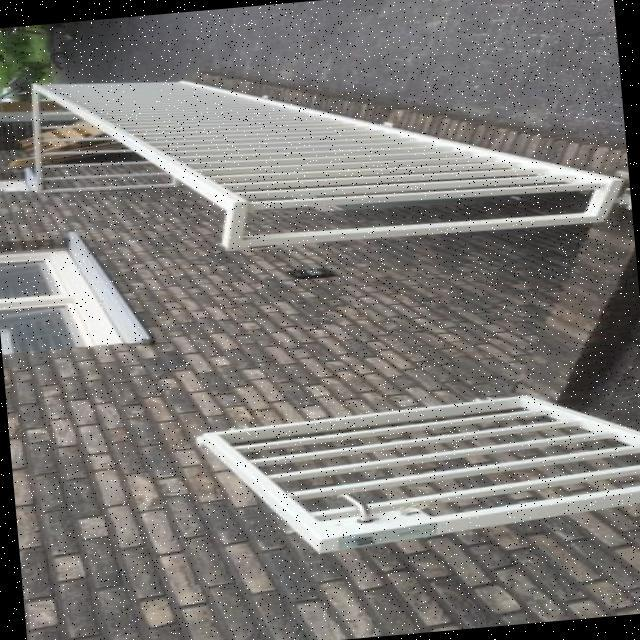fence line: (216, 366, 632, 530), (225, 134, 575, 236), (39, 71, 259, 190)
